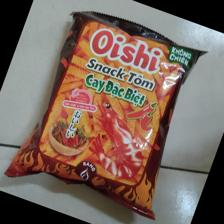Oishi_Cay: (4, 12, 210, 222)
